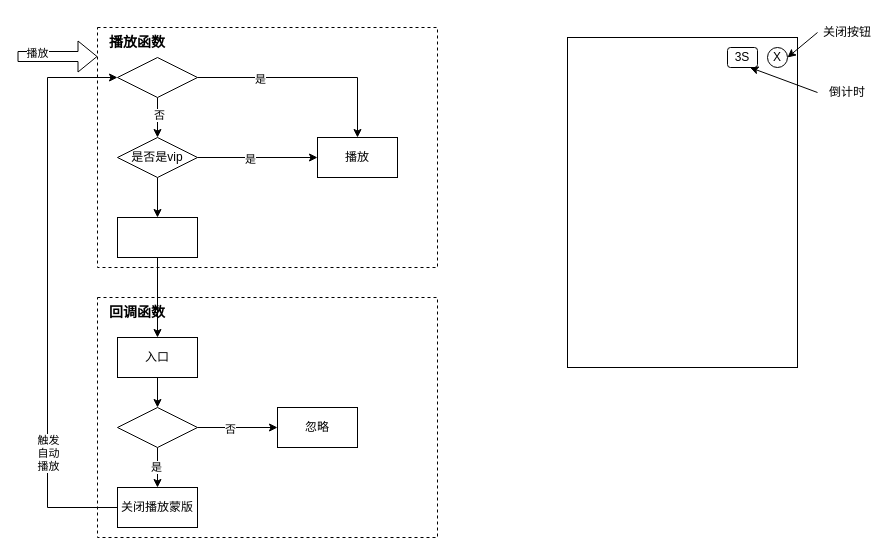
Image size: 894x555. Some labels were removed from this diagram. Each missing label, with the centre of its shape:
"打开播放蒙版 打开广告页面" belongs at point 157,237.
"是否完成" belongs at point 157,427.
"是否解锁" belongs at point 157,77.
